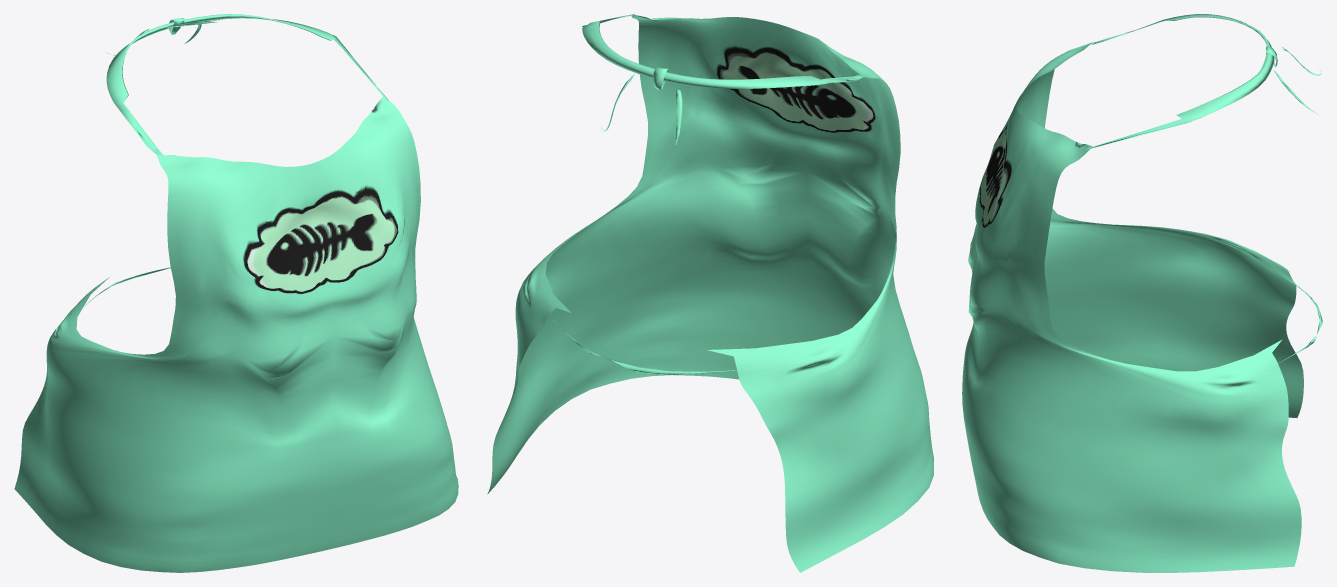
The model's file is Apron-Fishy.glb.
The picture shows the model from 3 angles, left to right: view 1: azimuth 30°, elevation 25°; view 2: azimuth 150°, elevation 25°; view 3: azimuth 270°, elevation 25°; orthographic projection. The views are drawn at different scales.
Parts seen in each view (by area): view 1: Apron-Fishy; view 2: Apron-Fishy; view 3: Apron-Fishy.
Part boxes in pixels (bbox=[...]): Apron-Fishy: bbox=[14, 14, 458, 572]; Apron-Fishy: bbox=[487, 14, 933, 572]; Apron-Fishy: bbox=[962, 14, 1322, 572].
Size of the model in its own units: 0.3446 by 0.4123 by 0.3047.
Materials: 1 (1 with a texture image).
